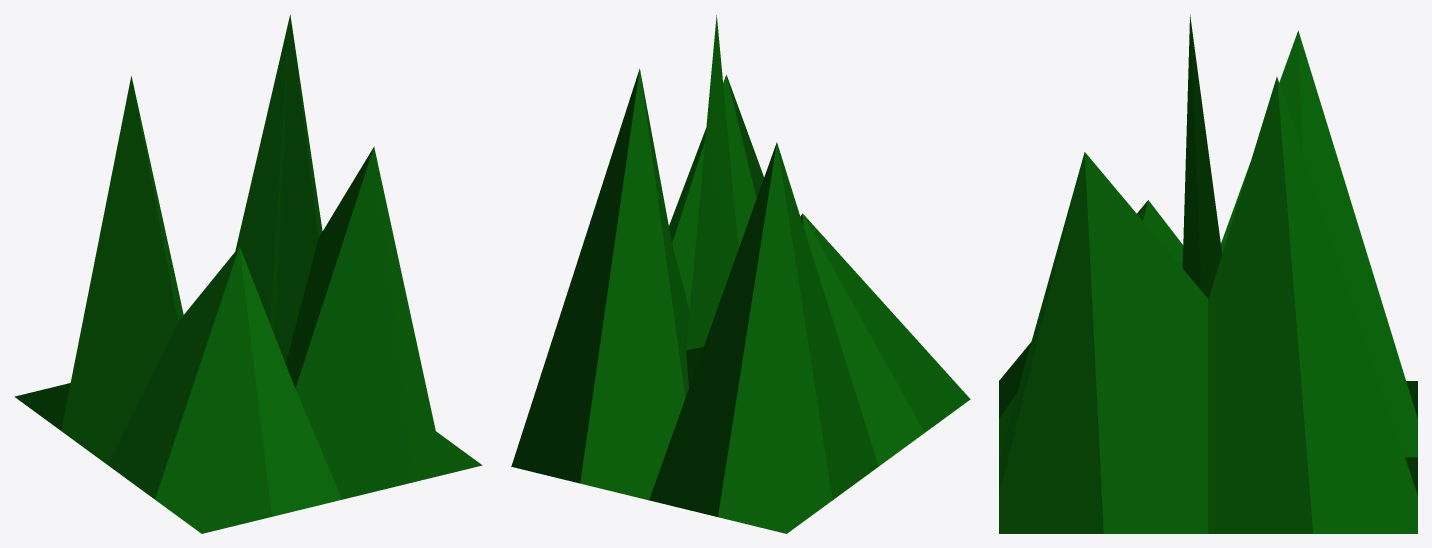
Rendered from grassBlades.fbx.
3 views of the same model, side by side, from view 1: azimuth 30°, elevation 25°; view 2: azimuth 150°, elevation 25°; view 3: azimuth 270°, elevation 25° (orthographic). The views are drawn at different scales.
Parts seen in each view (by area): view 1: grassBlades; view 2: grassBlades; view 3: grassBlades.
Boxes of the visible parts, x1,y1,x2,y2 form: grassBlades: [14, 15, 482, 533]; grassBlades: [511, 15, 970, 533]; grassBlades: [999, 15, 1417, 533].
Bounding box in the file's own units: 8 × 11.25 × 9.25.
